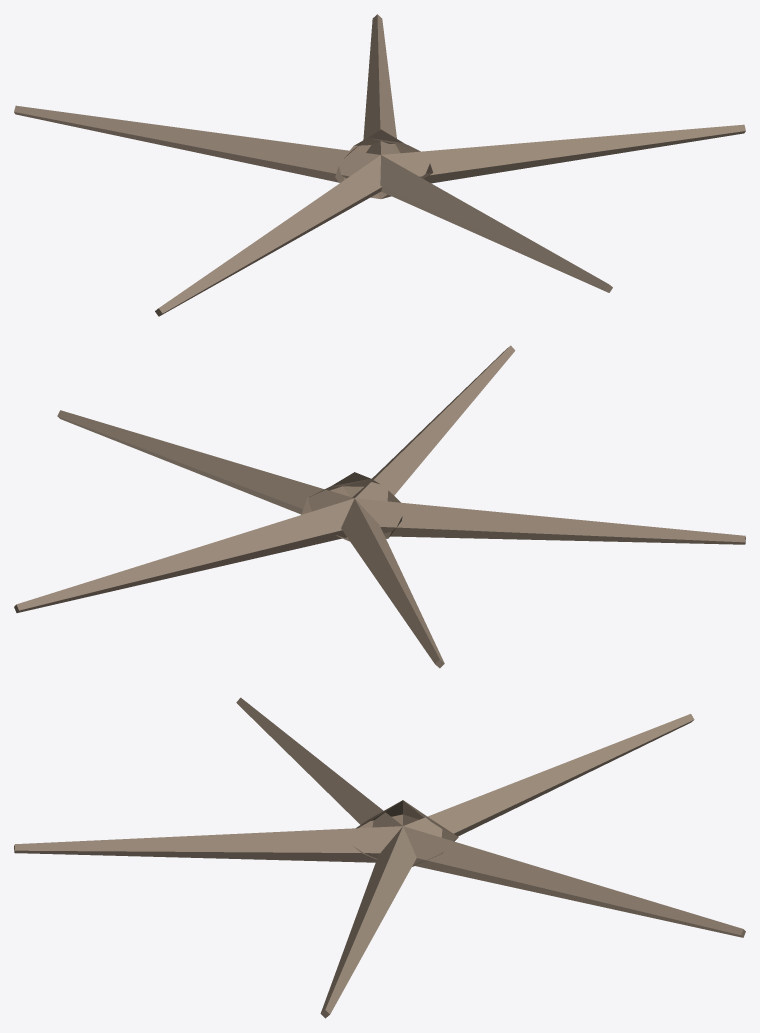
3 views of the same model, one above another, from view 1: azimuth 30°, elevation 25°; view 2: azimuth 150°, elevation 25°; view 3: azimuth 270°, elevation 25° (orthographic). The views are drawn at different scales.
Visible parts, largest first — view 1: lod0; view 2: lod0; view 3: lod0.
Boxes of the visible parts, <box> form: lod0: <box>14,14,745,316</box>; lod0: <box>14,345,745,668</box>; lod0: <box>14,697,745,1018</box>.
Size of what is drawn, in the model's own units: 1.8 by 0.1912 by 1.78.
